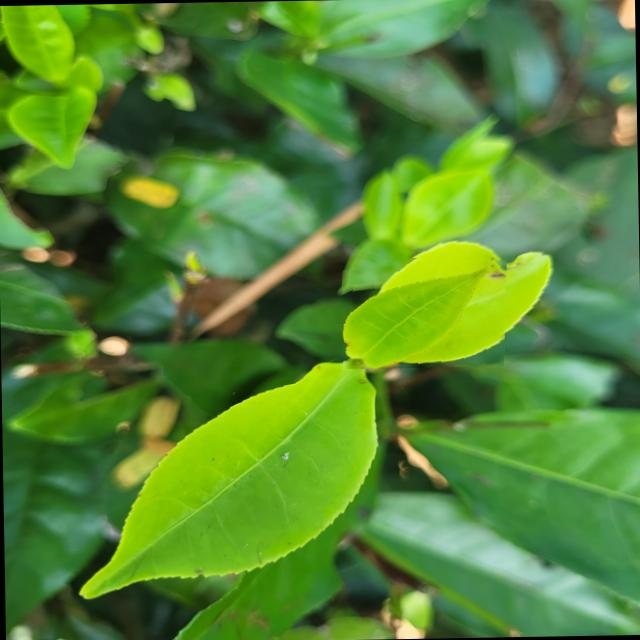Catagory A(1-2 days): (341, 252, 508, 368)
